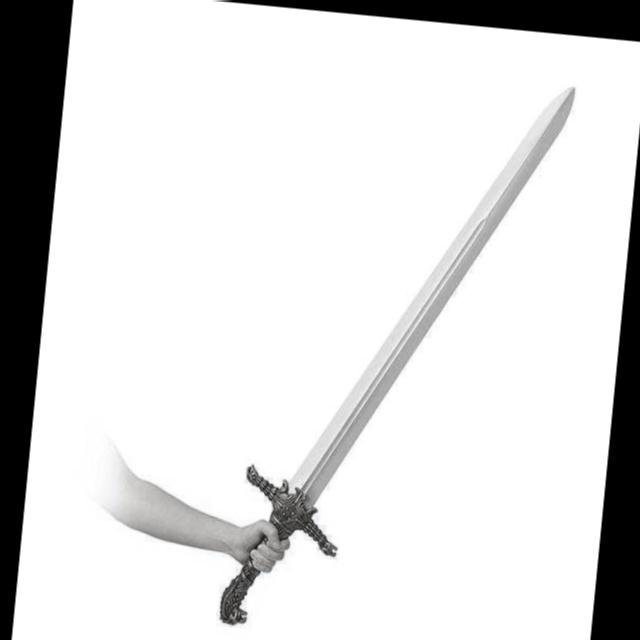Sharp-Object: (203, 44, 591, 640)
